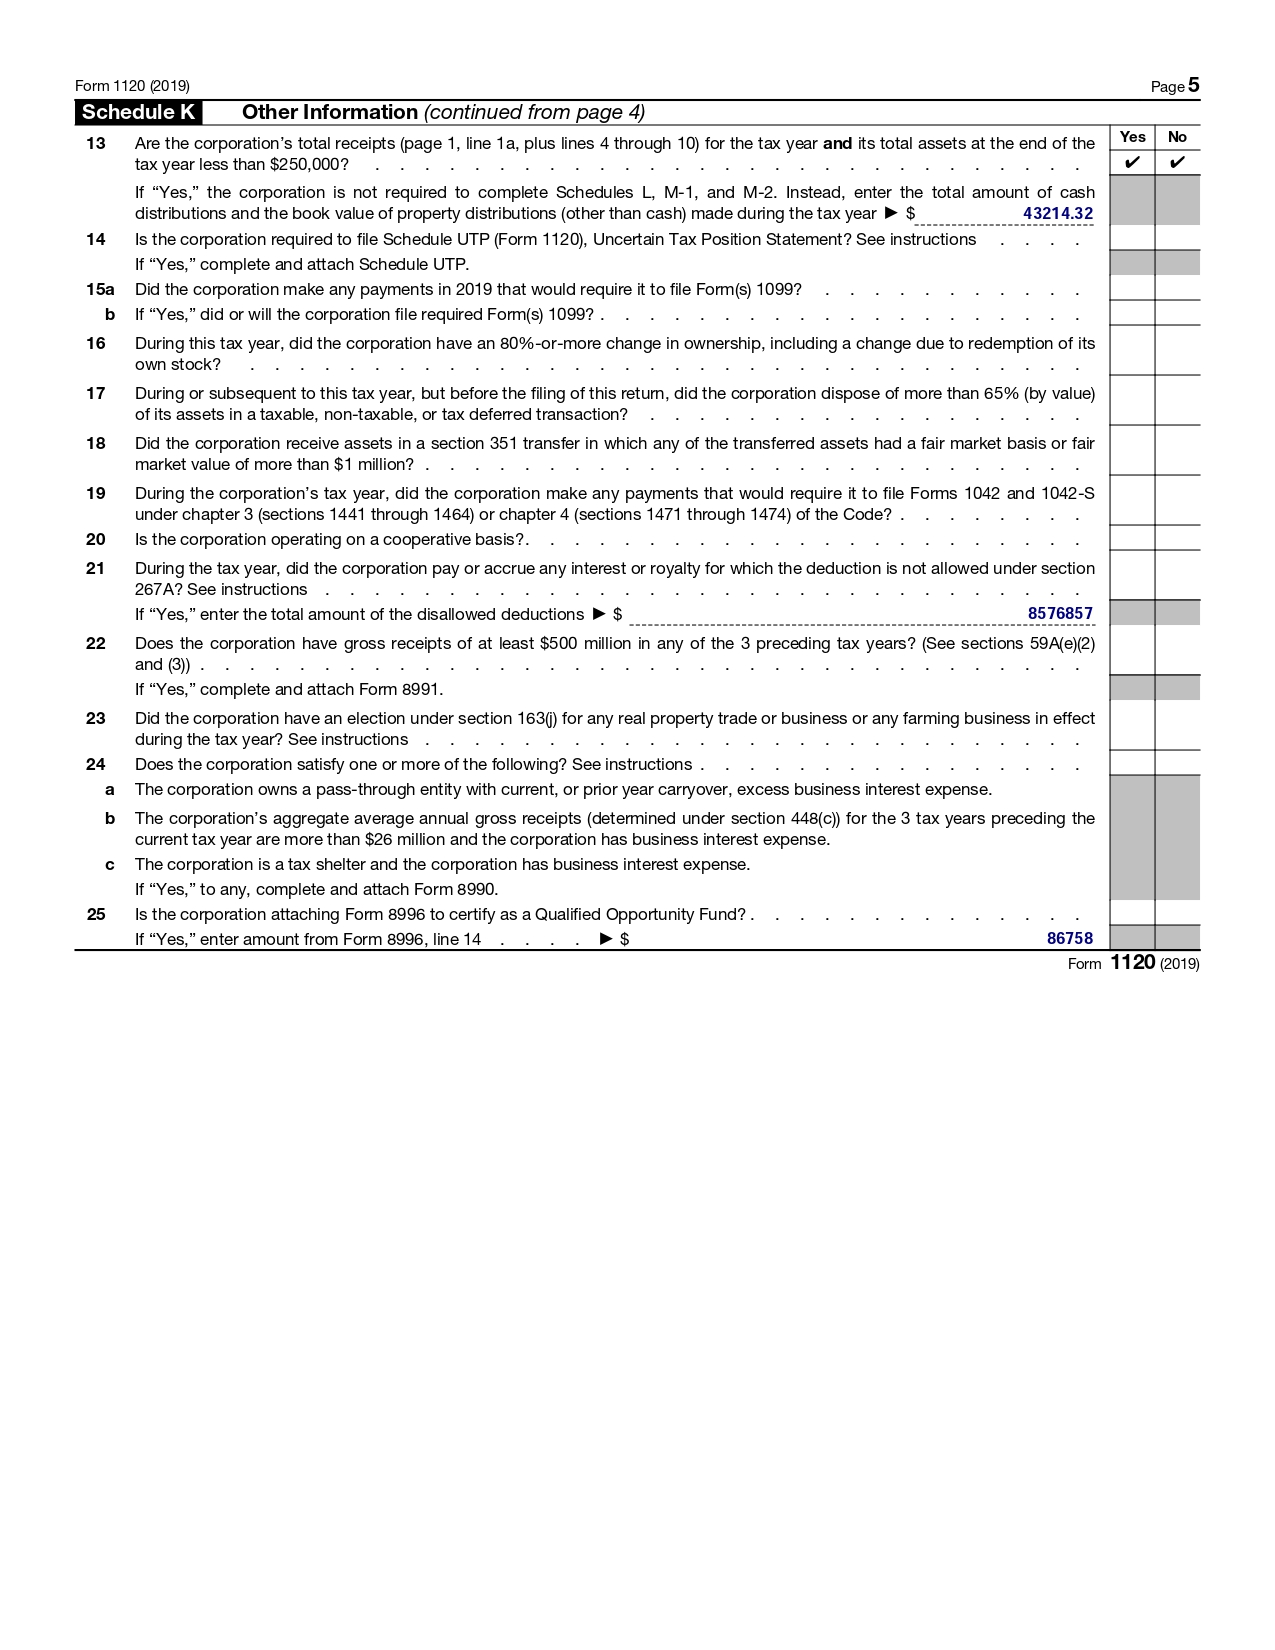table: (66, 129, 1231, 954)
